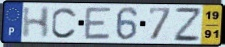6: (115, 6, 140, 42)
7: (148, 6, 173, 42)
C: (50, 6, 79, 40)
E: (83, 6, 113, 41)
H: (20, 6, 52, 40)
Z: (173, 6, 202, 43)
